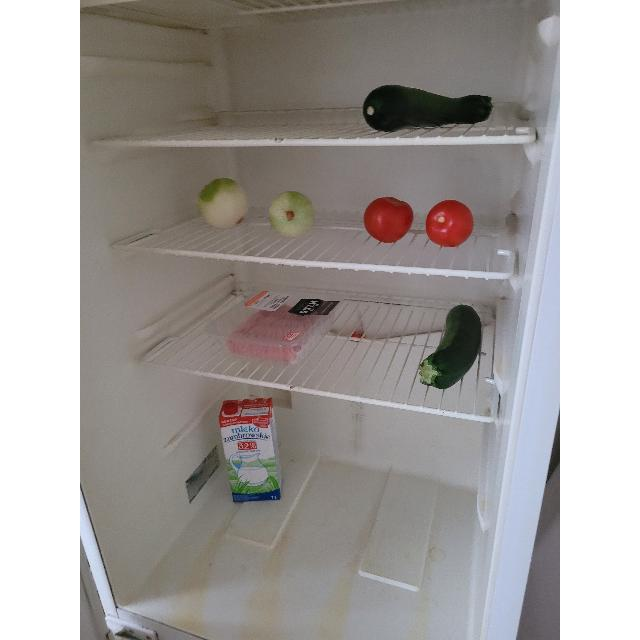meat: (228, 310, 324, 360)
milk: (217, 396, 283, 502)
onion: (196, 176, 248, 228), (270, 191, 314, 237)
tomato: (364, 196, 414, 244), (426, 200, 474, 248)
zucchini: (364, 83, 491, 131), (418, 304, 482, 388)
